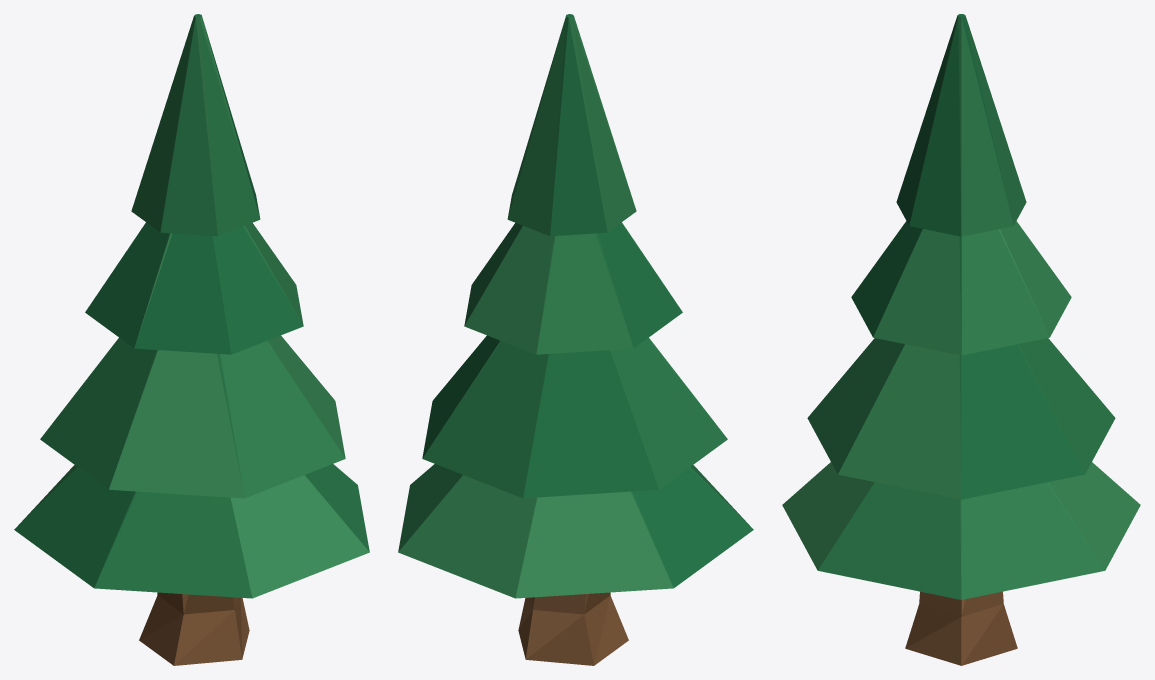
Rendered from Pine.fbx.
3 renders of one model, left to right at view 1: azimuth 30°, elevation 25°; view 2: azimuth 150°, elevation 25°; view 3: azimuth 270°, elevation 25°, orthographic.
Parts seen in each view (by area): view 1: Asset_Pine; view 2: Asset_Pine; view 3: Asset_Pine.
Boxes of the visible parts, x1,y1,x2,y2 form: Asset_Pine: [14, 14, 369, 665]; Asset_Pine: [398, 14, 753, 665]; Asset_Pine: [782, 14, 1140, 665].
Bounding box in the file's own units: 2.77 × 5.47 × 2.84.
